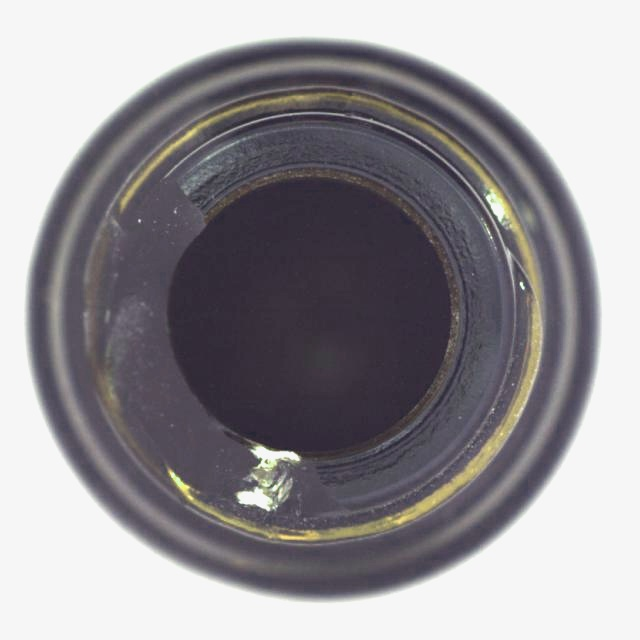bad-broken_large: (22, 36, 604, 606)
